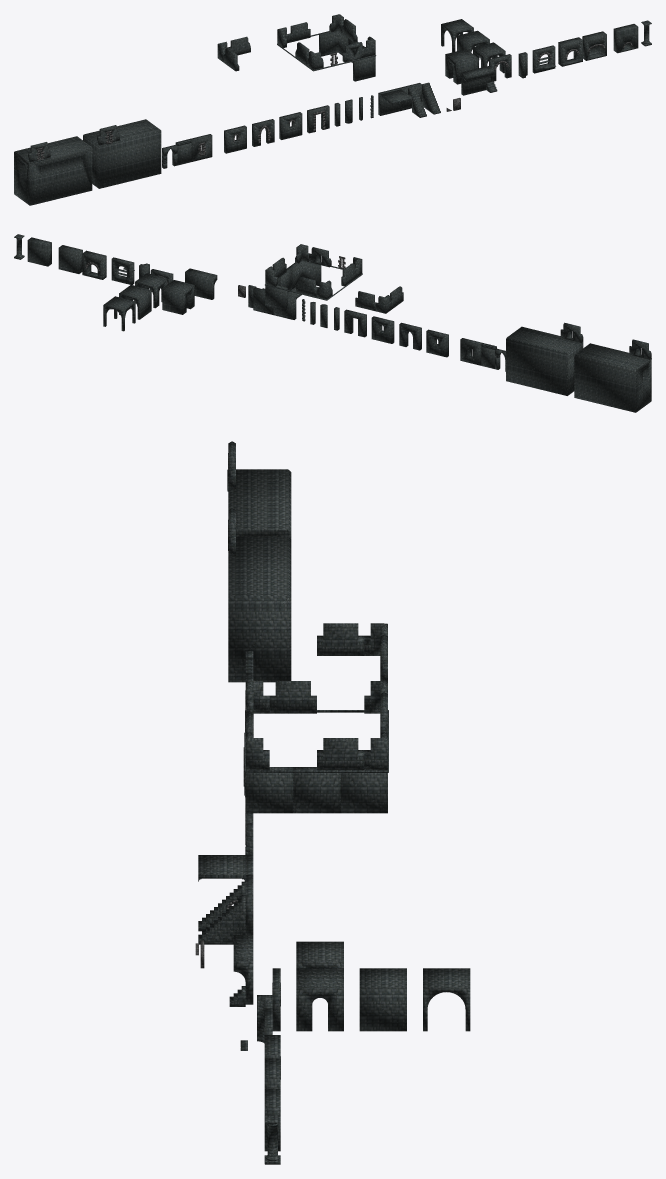
File: halfwall 30.glb
3 renders of one model, top to bottom at view 1: azimuth 30°, elevation 25°; view 2: azimuth 150°, elevation 25°; view 3: azimuth 270°, elevation 25°, orthographic. The views are drawn at different scales.
Visible parts, largest first — view 1: Curtain Wall With Passage, Curtain Wall, Circular Arch Hall Thin, Circular Doorway.011, Fireplace, Small, Wall, Corner.001, Fireplace Large, Fireplace Large, 2 Sided, Arch Window Wall, Wall, WIndow - Arch, Arch Alcove, Circular Arch Hall, doors (+16 smaller); view 2: Curtain Wall With Passage, Curtain Wall, Circular Arch Hall Thin, Circular Doorway.011, Circular Arch Hall, large, Fireplace, Small, Fireplace Large, Circular Vault.003, Fireplace Large, 2 Sided, Wall, Corner, Arch Window Wall, Circular Arch Hall, doors (+14 smaller); view 3: Curtain Wall, Curtain Wall With Passage, Circular Arch Hall, large, Circular Arch Hall, doors, Wall, Corner, Wall.001, Wall, Corner.001, Circular Vault.003, Wall.029, Wall.031, Wall.032, Steps (+3 smaller).
Boxes of the visible parts, <box> form: Curtain Wall With Passage: <box>14,136,92,205</box>; Curtain Wall: <box>83,119,161,188</box>; Circular Arch Hall Thin: <box>445,49,477,84</box>; Circular Doorway.011: <box>461,66,493,95</box>; Fireplace, Small: <box>613,24,638,53</box>; Wall, Corner.001: <box>319,31,348,56</box>; Fireplace Large: <box>582,31,606,60</box>; Fireplace Large, 2 Sided: <box>558,37,582,66</box>; Arch Window Wall: <box>279,112,302,139</box>; Wall, WIndow - Arch: <box>224,125,246,153</box>; Arch Alcove: <box>532,45,555,73</box>; Circular Arch Hall, doors: <box>473,42,505,73</box>; Curtain Wall With Passage: <box>574,343,651,412</box>; Curtain Wall: <box>506,326,583,395</box>; Circular Arch Hall Thin: <box>162,280,194,314</box>; Circular Doorway.011: <box>185,268,217,299</box>; Circular Arch Hall, large: <box>119,285,151,319</box>; Fireplace, Small: <box>27,237,51,266</box>; Fireplace Large: <box>58,245,82,273</box>; Circular Vault.003: <box>103,296,135,331</box>; Fireplace Large, 2 Sided: <box>82,250,106,279</box>; Wall, Corner: <box>289,260,321,288</box>; Arch Window Wall: <box>371,316,394,343</box>; Circular Arch Hall, doors: <box>135,273,167,308</box>; Curtain Wall: <box>228,536,291,682</box>; Curtain Wall With Passage: <box>228,469,291,538</box>; Circular Arch Hall, large: <box>359,968,406,1031</box>; Circular Arch Hall, doors: <box>296,968,343,1031</box>; Wall, Corner: <box>246,767,293,813</box>; Wall.001: <box>293,767,340,813</box>; Wall, Corner.001: <box>340,773,387,813</box>; Circular Vault.003: <box>423,968,470,1031</box>; Wall.029: <box>317,623,364,655</box>; Wall.031: <box>317,738,364,770</box>; Wall.032: <box>269,681,316,713</box>; Steps: <box>198,895,245,944</box>.
Bounding box in the file's own units: 83.49 × 10.05 × 15.88.
3 materials, 3 textured.
